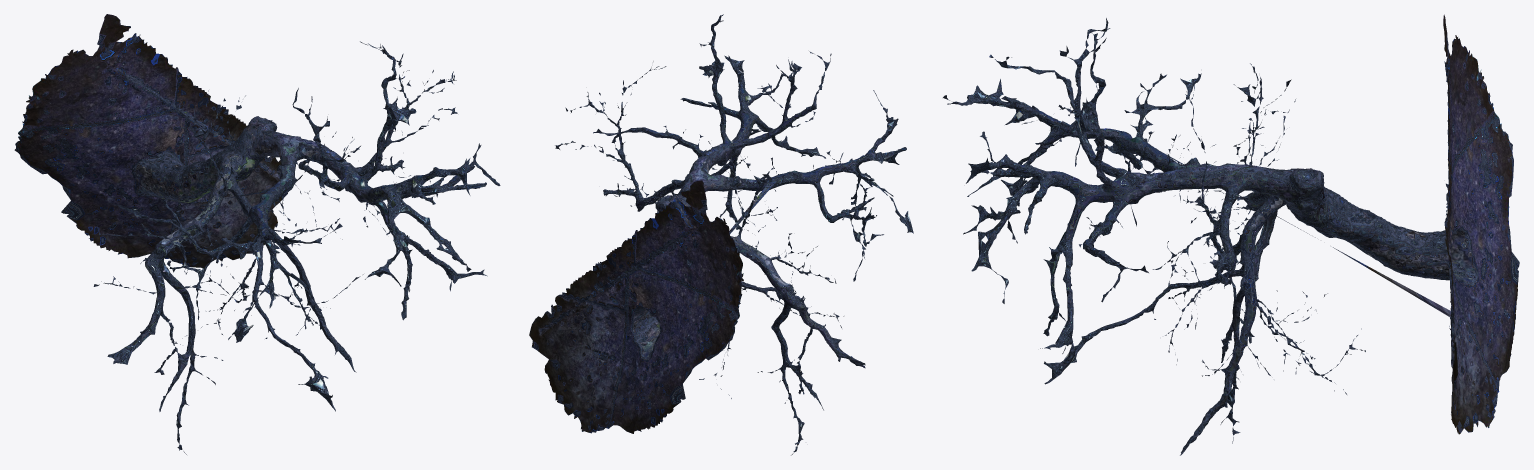
The model's file is arvore.obj.
The picture shows the model from 3 angles, left to right: view 1: azimuth 30°, elevation 25°; view 2: azimuth 150°, elevation 25°; view 3: azimuth 270°, elevation 25°; orthographic projection. The views are drawn at different scales.
Size of the model in its own units: 33.26 by 37.95 by 40.37.
1 material, 1 textured.
